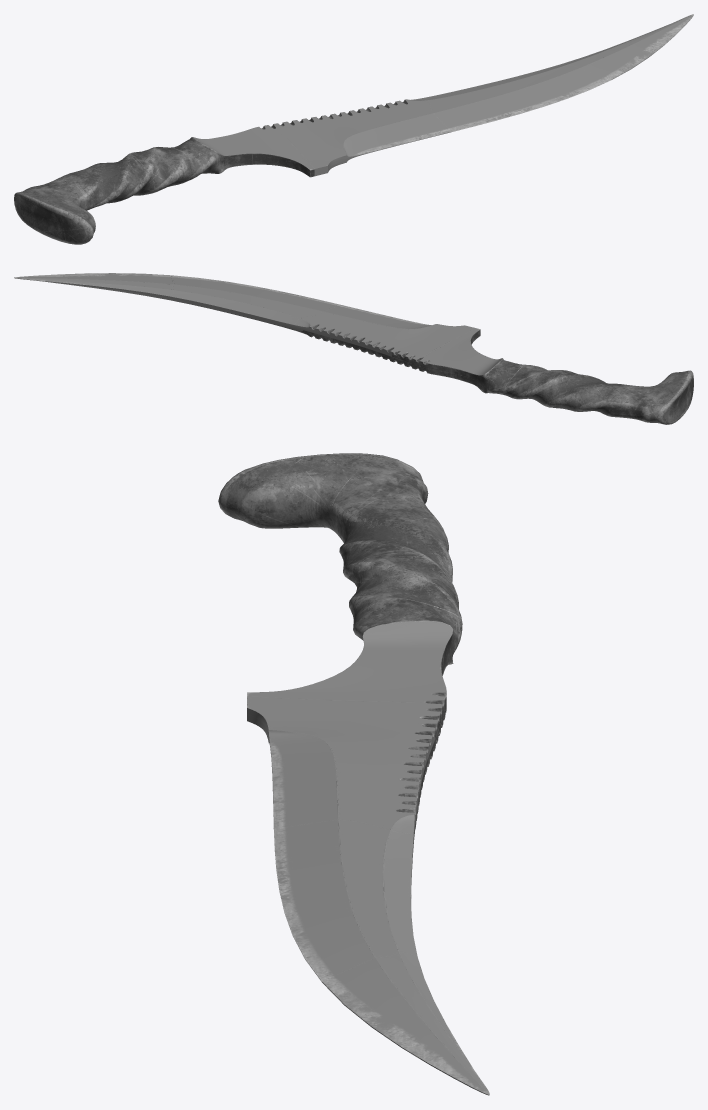
Rendered from metal_knife.glb.
3 renders of one model, top to bottom at view 1: azimuth 30°, elevation 25°; view 2: azimuth 150°, elevation 25°; view 3: azimuth 270°, elevation 25°, orthographic. The views are drawn at different scales.
Parts seen in each view (by area): view 1: Knife; view 2: Knife; view 3: Knife.
Boxes of the visible parts, x1,y1,x2,y2 form: Knife: (14, 14, 693, 244); Knife: (14, 273, 693, 424); Knife: (218, 453, 489, 1095).
Size of the model in its own units: 0.4194 by 0.0194 by 0.078.
Materials: 1 (1 with a texture image).
